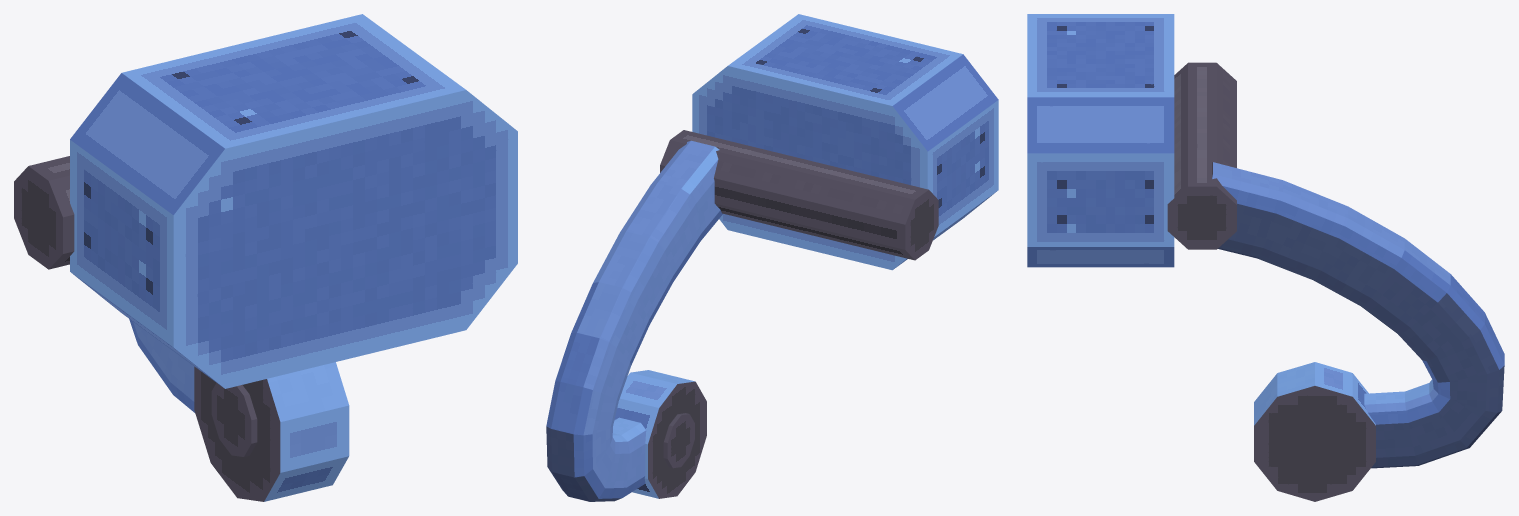
The model's file is stab2.glb.
3 views of the same model, side by side, from view 1: azimuth 30°, elevation 25°; view 2: azimuth 150°, elevation 25°; view 3: azimuth 270°, elevation 25° (orthographic). The views are drawn at different scales.
Visible parts, largest first — view 1: stab2_body, stab2_arm; view 2: stab2_arm, stab2_body; view 3: stab2_arm, stab2_body.
Part boxes in pixels (x1,y1,x2,y2): stab2_body: (70, 14, 517, 388); stab2_arm: (14, 156, 349, 501); stab2_arm: (546, 130, 938, 501); stab2_body: (692, 14, 998, 270); stab2_arm: (1167, 62, 1504, 501); stab2_body: (1027, 14, 1174, 267).
Size of the model in its own units: 0.625 by 0.9167 by 1.02.
1 material, 1 textured.
